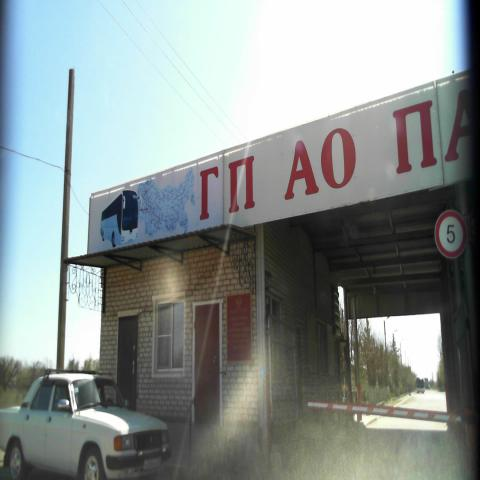3_24: (432, 205, 468, 259)
